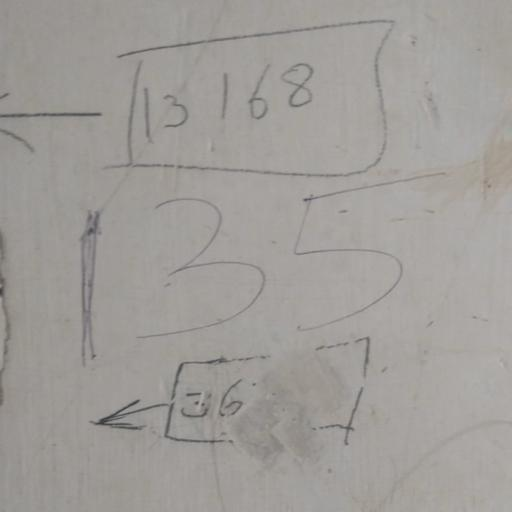stain: (0, 0, 442, 234), (79, 159, 449, 394), (61, 347, 407, 511), (368, 416, 512, 511), (412, 106, 512, 228), (0, 213, 40, 407)
